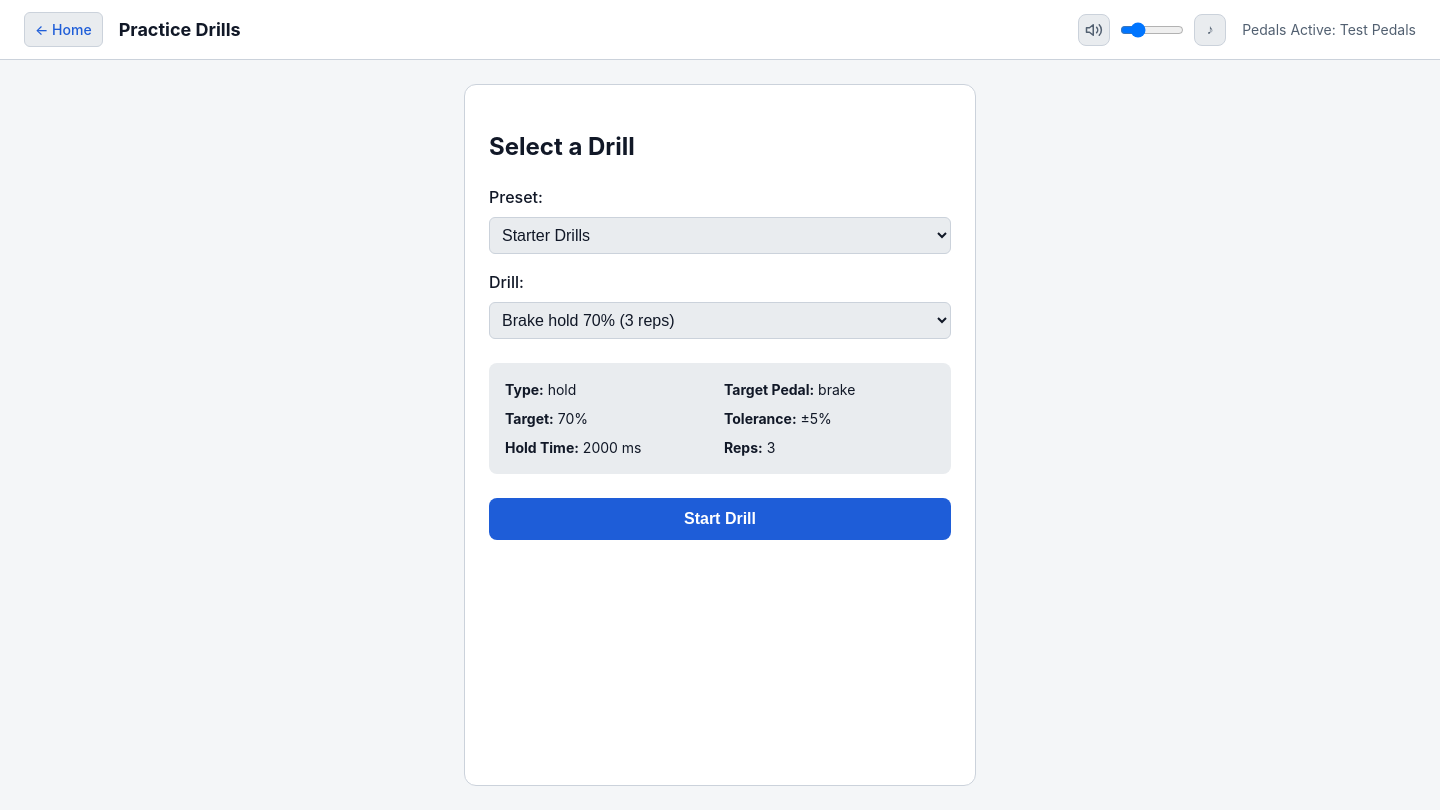
Test: Drill page › shows best, average and consistency from the Rust summary
The width and height of the screenshot is (1440, 810).
Click the button "Start Drill" at (720, 519), box [489,498,951,540]
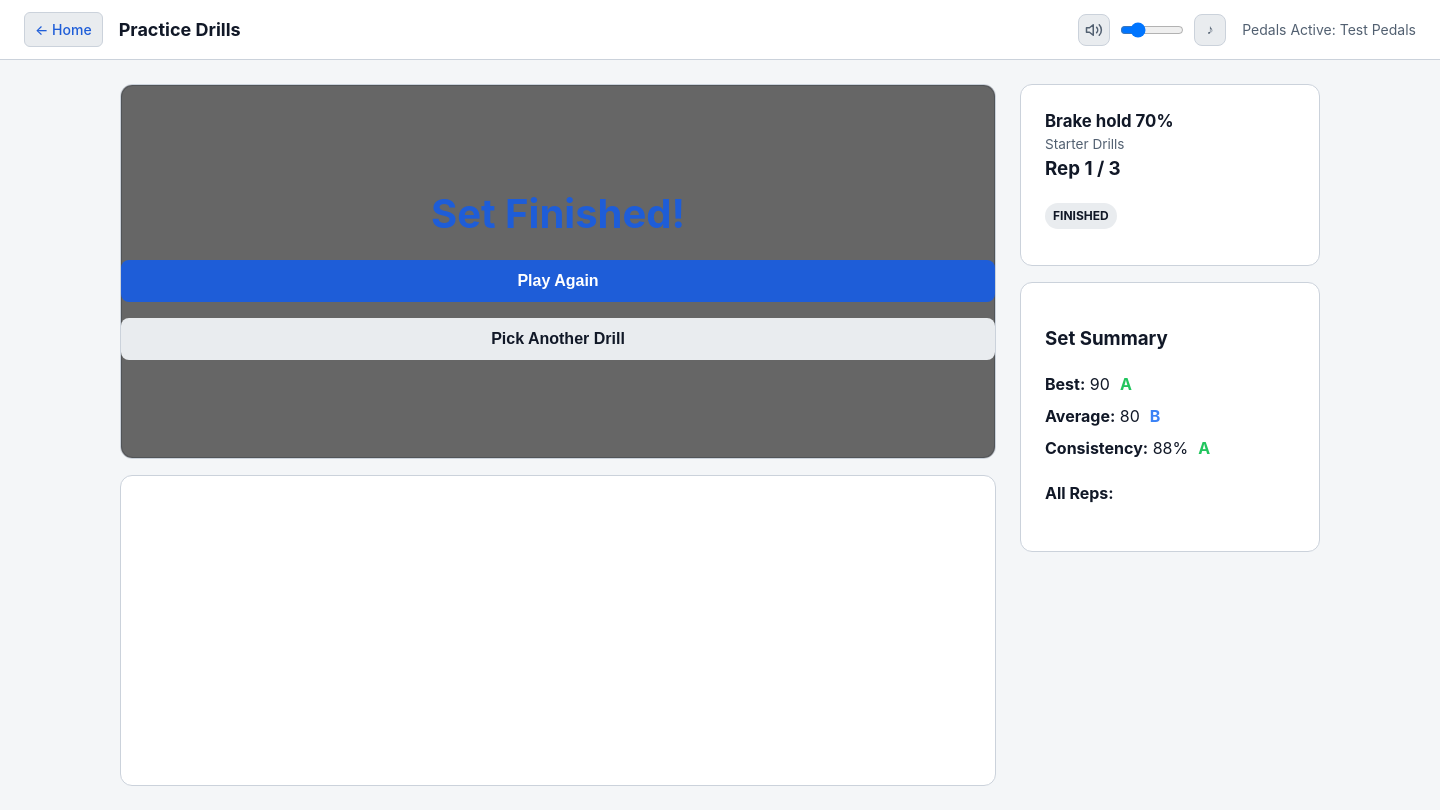
Check: the text "Set Summary" shows "Best: 90", box [1020,282,1320,552]
Check: the text "Set Summary" shows "Average: 80 B", box [1020,282,1320,552]
Check: the text "Set Summary" shows "Consistency: 88%", box [1020,282,1320,552]
